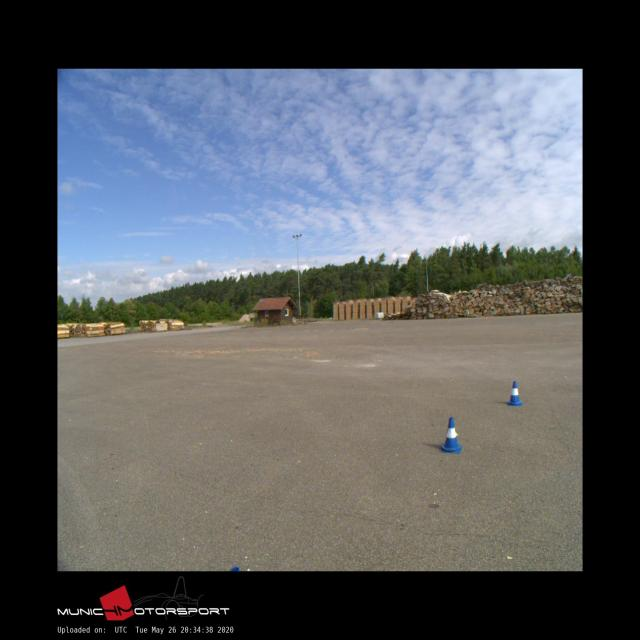blue_cone: (439, 417, 462, 453), (508, 381, 522, 405)
